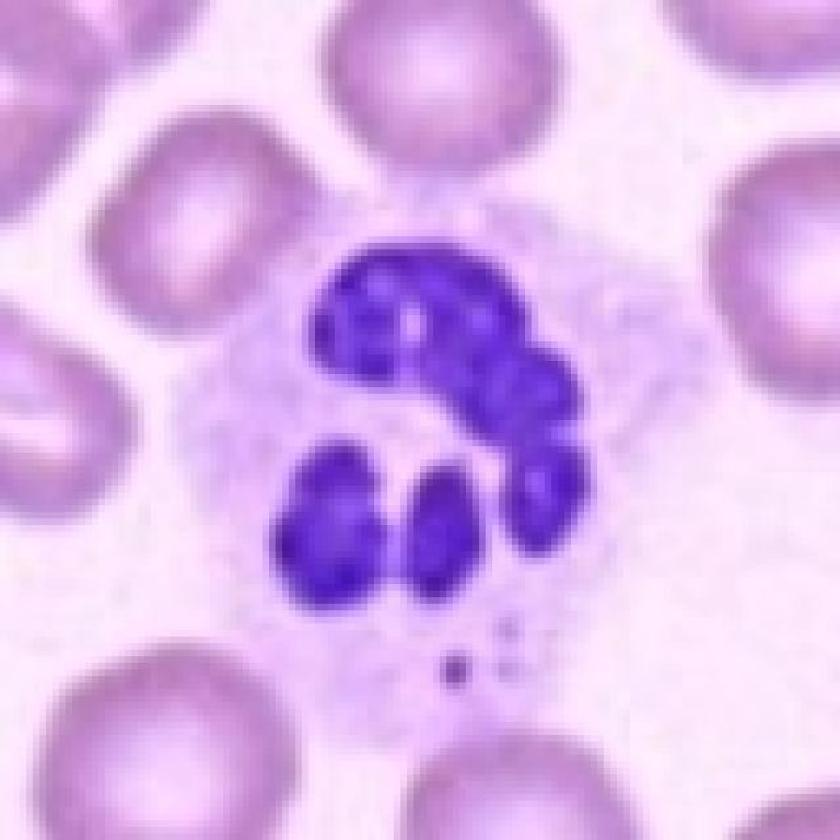neutrophil: (153, 164, 741, 697)
